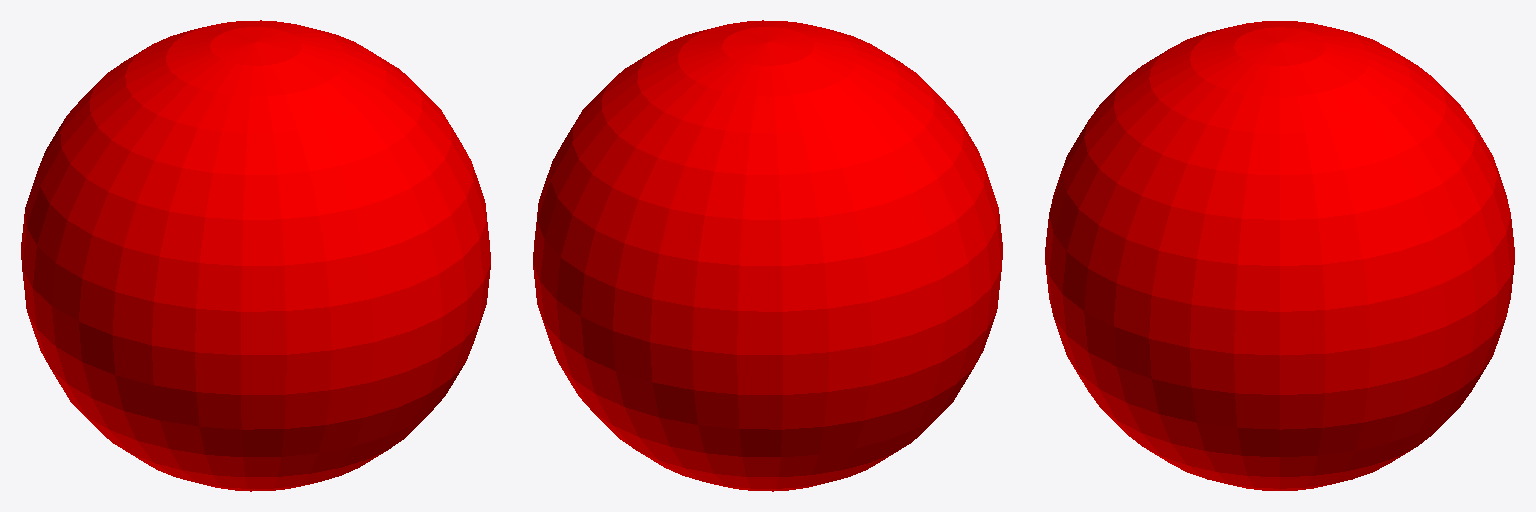
The robot description file, URDF, robot "xarm6":
<?xml version="1.0" ?>
<robot name="xarm6">
    <material name="Silver">
        <color rgba="1.0 1.0 1.0 1.0" />
    </material>
    <material name="Black">
        <color rgba="0.0 0.0 0.0 1.0" />
    </material>
    <material name="Chrome">
        <color rgba="0.0 0.0 0.0 1.0" />
    </material>
    <material name="DarkGrey">
        <color rgba="0.33 0.33 0.33 1.0" />
    </material>
    <material name="Grey">
        <color rgba="0.55 0.55 0.55 0.8" />
    </material>
    <material name="OpaqueGreen">
        <color rgba="0.0 1.0 0.0 0.2" />
    </material>
    <material name="OpaqueRed">
        <color rgba="1.0 0.0 0.0 0.2" />
    </material>

    <link name="link0">
        <visual>
            <geometry>
                <mesh filename="../meshes/xarm6/visual/link0.obj" />
            </geometry>
        </visual>
        <collision>
            <geometry>
                <mesh filename="../meshes/xarm6/collision/link0.obj" scale="1.0 1.0 1.0"/>
            </geometry>
        </collision>
    </link>
    <joint name="joint1" type="revolute">
        <safety_controller k_position="100.0" k_velocity="40.0" soft_lower_limit="-2.8973" soft_upper_limit="2.8973" />
        <origin rpy="0 0 0" xyz="0 0 0.267" />
        <parent link="link0" />
        <child link="link1" />
        <axis xyz="0 0 1" />
        <limit effort="87.0" lower="-6.28" upper="6.28" velocity="2.62" />
    </joint>
    <link name="link1">
        <visual>
            <geometry>
                <mesh filename="../meshes/xarm6/visual/link1.obj" />
            </geometry>
        </visual>
        <collision>
            <geometry>
                <mesh filename="../meshes/xarm6/collision/link1.obj" scale="1.0 1.0 1.0"/>
            </geometry>
        </collision>
    </link>
    <joint name="joint2" type="revolute">
        <safety_controller k_position="100.0" k_velocity="40.0" soft_lower_limit="-1.7628" soft_upper_limit="1.7628" />
        <origin rpy="-1.57079632679 0 0" xyz="0 0 0" />
        <parent link="link1" />
        <child link="link2" />
        <axis xyz="0 0 1" />
        <limit effort="87.0" lower="-2.059" upper="2.0944" velocity="2.62" />
    </joint>
    <link name="link2">
        <visual>
            <geometry>
                <mesh filename="../meshes/xarm6/visual/link2.obj" />
            </geometry>
        </visual>
        <collision>
            <geometry>
                <mesh filename="../meshes/xarm6/collision/link2.obj" scale="1.0 1.0 1.0"/>
            </geometry>
        </collision>
    </link>
    <joint name="joint3" type="revolute">
        <safety_controller k_position="100.0" k_velocity="40.0" soft_lower_limit="-2.8973" soft_upper_limit="2.8973" />
        <origin rpy="0 0 0" xyz="0.0535 -0.2845 0" />
        <parent link="link2" />
        <child link="link3" />
        <axis xyz="0 0 1" />
        <limit effort="87.0" lower="-3.927" upper="0.19198" velocity="2.62" />
    </joint>
    <link name="link3">
        <visual>
            <geometry>
                <mesh filename="../meshes/xarm6/visual/link3.obj" />
            </geometry>
        </visual>
        <collision>
            <geometry>
                <mesh filename="../meshes/xarm6/collision/link3.obj" scale="1.0 1.0 1.0"/>
            </geometry>
        </collision>
    </link>
    <joint name="joint4" type="revolute">
        <safety_controller k_position="100.0" k_velocity="40.0" soft_lower_limit="-3.0718" soft_upper_limit="0.0175" />
        <origin rpy="-1.57079632679 0 0" xyz="0.0775 0.3425 0" />
        <parent link="link3" />
        <child link="link4" />
        <axis xyz="0 0 1" />
        <limit effort="87.0" lower="-6.28" upper="6.28" velocity="2.62" />
    </joint>
    <link name="link4">
        <visual>
            <geometry>
                <mesh filename="../meshes/xarm6/visual/link4.obj" />
            </geometry>
        </visual>
        <collision>
            <geometry>
                <mesh filename="../meshes/xarm6/collision/link4.obj" scale="1.0 1.0 1.0"/>
            </geometry>
        </collision>
    </link>
    <joint name="joint5" type="revolute">
        <safety_controller k_position="100.0" k_velocity="40.0" soft_lower_limit="-2.8973" soft_upper_limit="2.8973" />
        <origin rpy="1.57079632679 0 0" xyz="0 0 0" />
        <parent link="link4" />
        <child link="link5" />
        <axis xyz="0 0 1" />
        <limit effort="12.0" lower="-1.69297" upper="3.14" velocity="5.26" />
    </joint>
    <link name="link5">
        <visual>
            <geometry>
                <mesh filename="../meshes/xarm6/visual/link5.obj" />
            </geometry>
        </visual>
        <collision>
            <geometry>
                <mesh filename="../meshes/xarm6/collision/link5.obj" scale="1.0 1.0 1.0"/>
            </geometry>
        </collision>
    </link>
    <joint name="joint6" type="revolute">
        <safety_controller k_position="100.0" k_velocity="40.0" soft_lower_limit="-0.0175" soft_upper_limit="3.7525" />
        <origin rpy="-1.5708 0 0" xyz="0.076 0.097 0" />
        <parent link="link5" />
        <child link="link6" />
        <axis xyz="0 0 1" />
        <limit effort="12.0" lower="-6.28" upper="6.28" velocity="4.18" />
    </joint>
    <link name="link6">
        <visual>
            <geometry>
                <mesh filename="../meshes/xarm6/visual/link6.obj" />
            </geometry>
        </visual>
        <collision>
            <geometry>
                <mesh filename="../meshes/xarm6/collision/link6.obj" scale="1.0 1.0 1.0"/>
            </geometry>
        </collision>
    </link>


    <joint name="ball_joint" type="fixed">
        <origin rpy="0.0 0.0 0.0" xyz="0 0 0.04866" />
        <parent link="link6"/>
        <child link="ball_link"/>
    </joint>
    <link name="ball_link">
        <visual>
        <material name="red">
            <color rgba="1 0 0 1"/>
        </material>

        <geometry>
            <sphere radius="0.01"/>
        </geometry>
        </visual>
    </link>


    <!-- <joint name="camera_joint" type="fixed">
        <parent link="link0"/>
        <child link="camera_rgb"/>
        <origin rpy="-2.300260 -0.001213 2.143358" xyz="0.781847 0.324491 0.299842"/>
    </joint>
    <link name="camera_rgb"/>

    <joint name="rgb_to_center" type="fixed">
      <parent link="camera_rgb" />
      <child link="camera_center" />
      <origin xyz="-0.0115 0 0" rpy="0 0 0" />
    </joint>
    <link name="camera_center" />

    <joint name="camera_center_to_mesh" type ="fixed">
      <parent link="camera_center" />
      <child link="camer_mesh" />
      <origin xyz="0 0 0" rpy="0 0 3.141592" />
    </joint>
    <link
        name="camer_mesh">
        <visual>
        <origin
            xyz="0 0 0"
            rpy="0 0 0" />
        <geometry>
            <mesh
            filename="../meshes/object/collision/d455.obj" scale="0.001 0.001 0.001"/>
        </geometry>
        <material
            name="">
            <color
            rgba="1 1 1 1" />
        </material>
        </visual>
        <collision>
        <origin
            xyz="0 0 0"
            rpy="0 0 0" />
        <geometry>
            <mesh
            filename="../meshes/object/collision/d455.obj"  scale="0.001 0.001 0.001"/>
        </geometry>
        </collision>
    </link> -->

</robot>

--- Render facts (derived) ---
Views: 3 orthographic renders of the robot side by side, from view 1: azimuth 30°, elevation 25°; view 2: azimuth 150°, elevation 25°; view 3: azimuth 270°, elevation 25°.
Robot: xarm6 — 8 links, 7 joints (6 revolute, 1 fixed); root link link0; default pose: all joints at 0.
Links seen in each view (by area): view 1: ball_link; view 2: ball_link; view 3: ball_link.
Link boxes in pixels (left/top/right/bottom): ball_link: left=21, top=20, right=490, bottom=491; ball_link: left=533, top=20, right=1002, bottom=491; ball_link: left=1045, top=21, right=1514, bottom=490.
Bounding box of the posed robot: 0.02 × 0.02 × 0.02 m (x, y, z).
0 mesh visuals loaded from 7 distinct referenced files (none loaded); not drawn: 7 (reference not matched to a file when rendering).